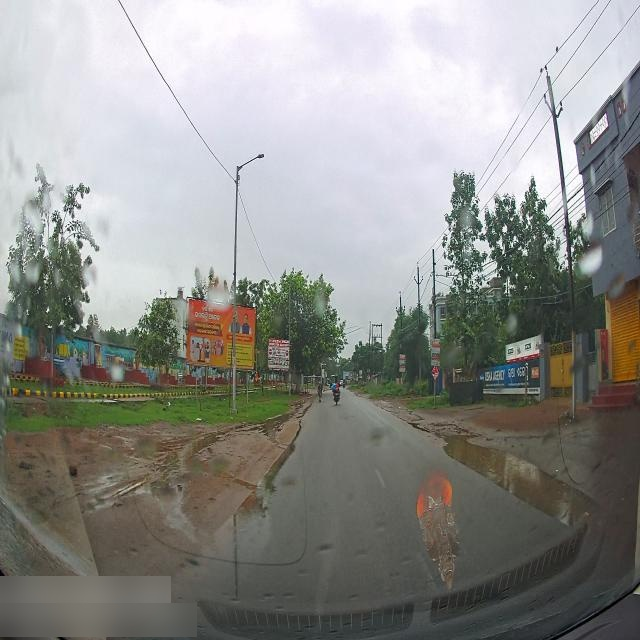pothole: (433, 414, 604, 540), (209, 427, 285, 612), (106, 425, 208, 468)
